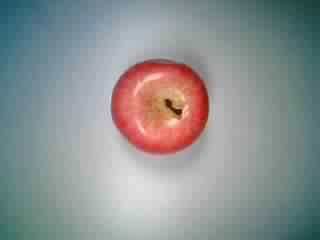apple: (103, 57, 210, 161)
